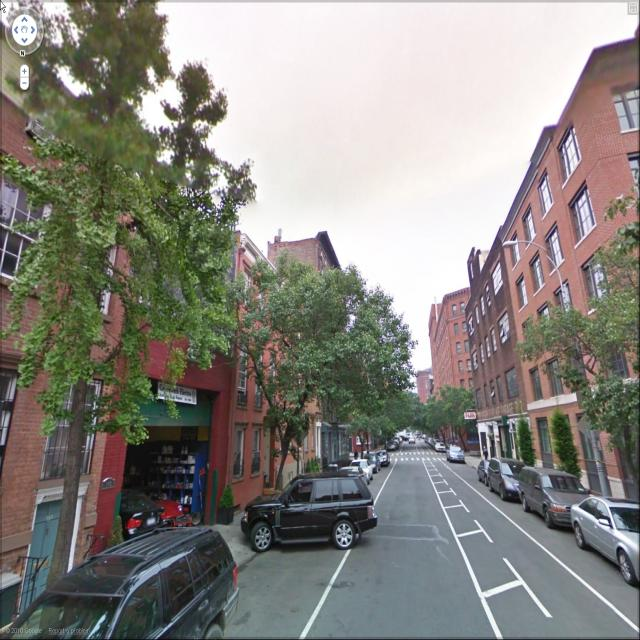b_1: (466, 226, 524, 484), (429, 256, 470, 405)
b_2: (0, 6, 128, 583), (503, 19, 640, 494), (112, 148, 246, 538), (272, 237, 362, 468), (234, 237, 280, 490)
